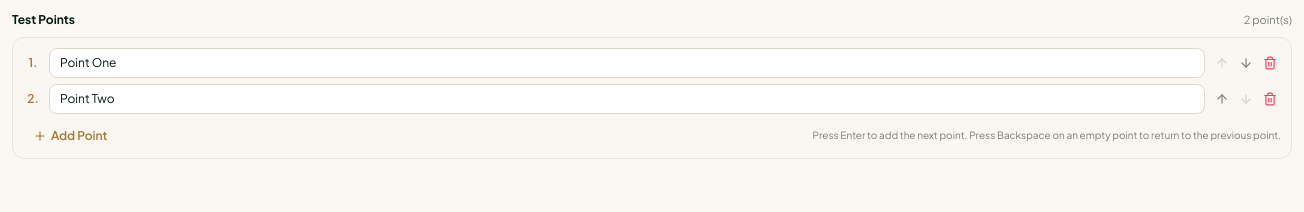
Test: PointListEditor Component Suite › clicking Add Point creates an empty point and focuses it
Click the button "Add Point".
click(70, 136)  # box [23,124,117,148]
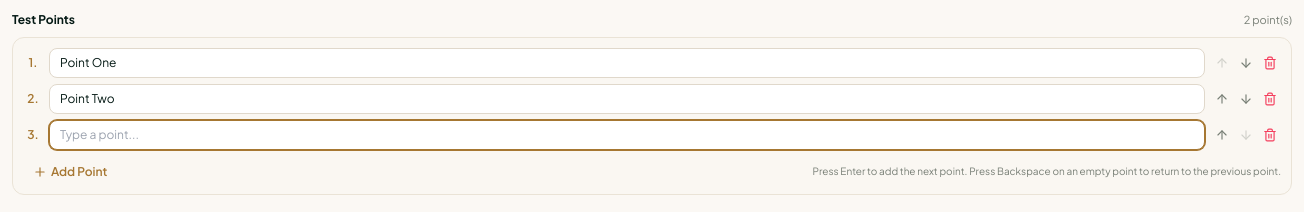
Now the number of fields is 3, box [49,48,1205,78]; [49,84,1205,114]; [49,120,1205,150]
Now the field with placeholder "Type a point..." is empty, box [49,120,1205,150]
